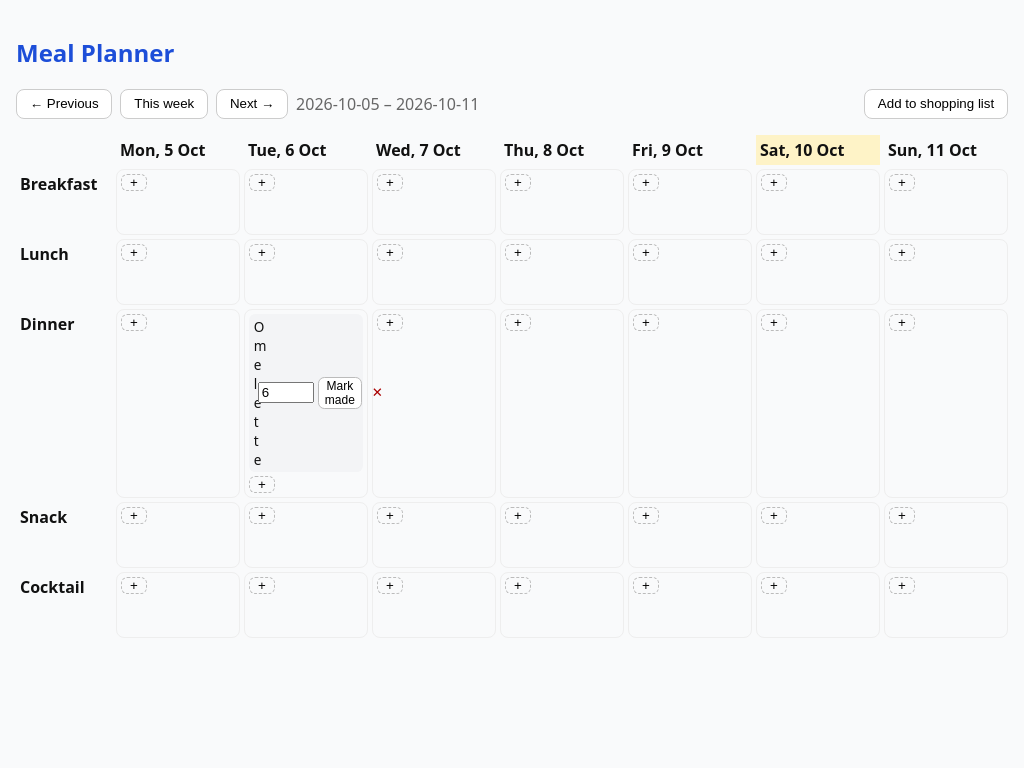
Scenario: MealPlanner.vue › says so when there is nothing to add
The width and height of the screenshot is (1024, 768).
Click the button with class "shop-btn".
click(936, 104)  # box [864,89,1008,119]
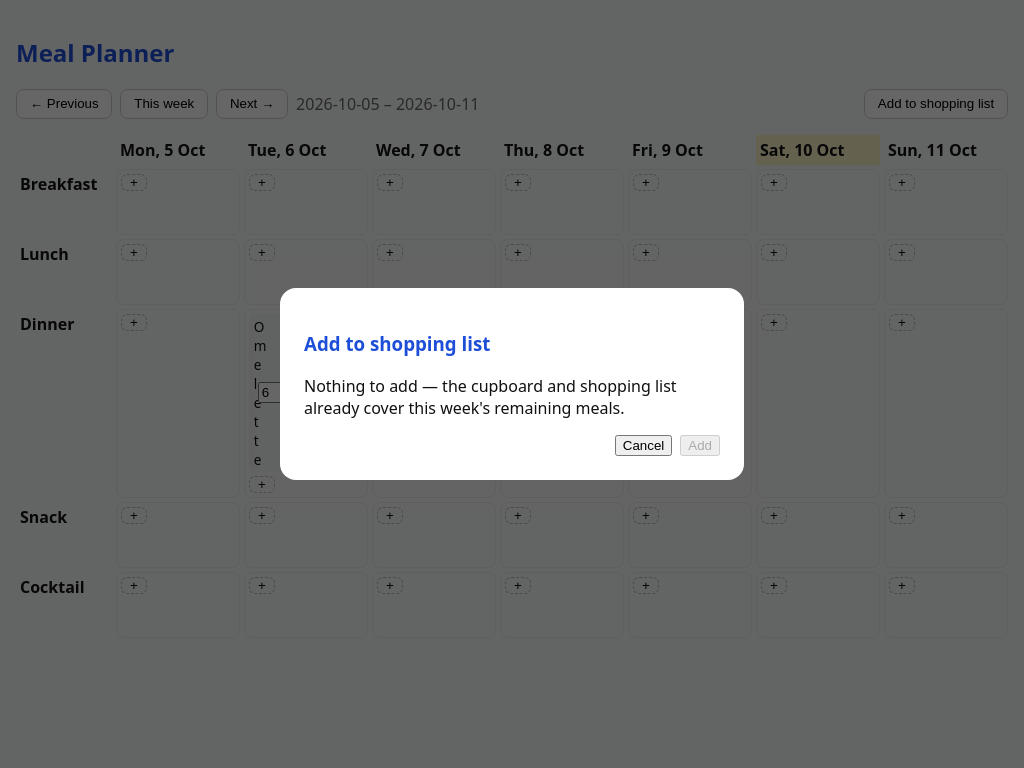
expect the dialog with class "dialog" shows "Nothing to add": met, box [304,375,677,419]
expect the button with class "confirm" is disabled: met, box [680,435,720,456]
